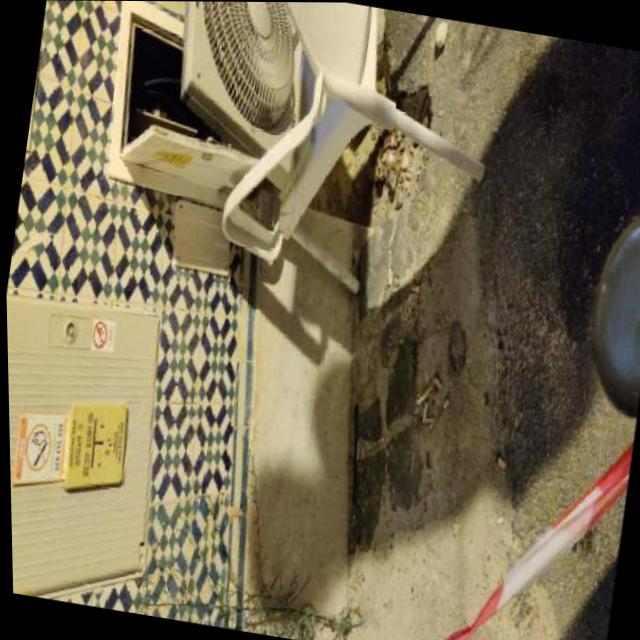foam: (417, 415, 637, 640), (418, 382, 434, 407), (434, 376, 445, 390), (498, 456, 509, 470), (424, 403, 430, 425), (388, 265, 394, 285), (497, 515, 506, 527), (412, 284, 422, 294)
